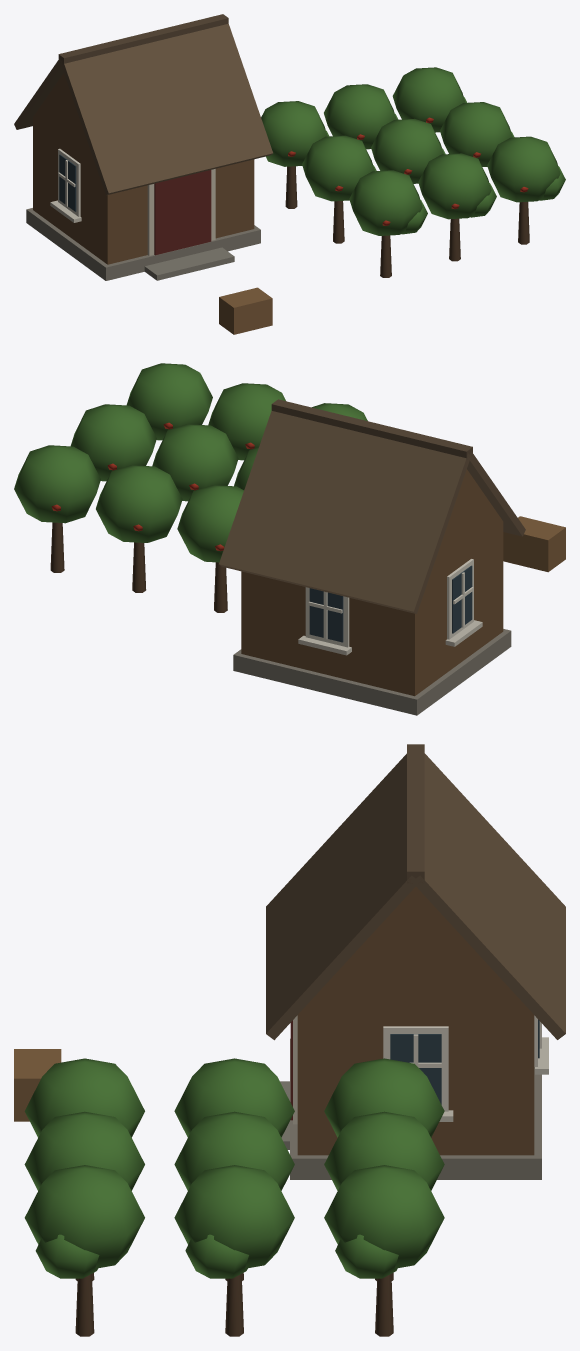
File: procedural_orchard@3.glb
The picture shows the model from 3 angles, top to bottom: view 1: azimuth 30°, elevation 25°; view 2: azimuth 150°, elevation 25°; view 3: azimuth 270°, elevation 25°; orthographic projection. The views are drawn at different scales.
Visible parts, largest first — view 1: part_0; view 2: part_0; view 3: part_0.
Part boxes in pixels (bbox=[...]): part_0: bbox=[14, 14, 565, 334]; part_0: bbox=[14, 363, 565, 715]; part_0: bbox=[14, 744, 565, 1336].
Bounding box in the file's own units: 9.07 × 4.37 × 7.
